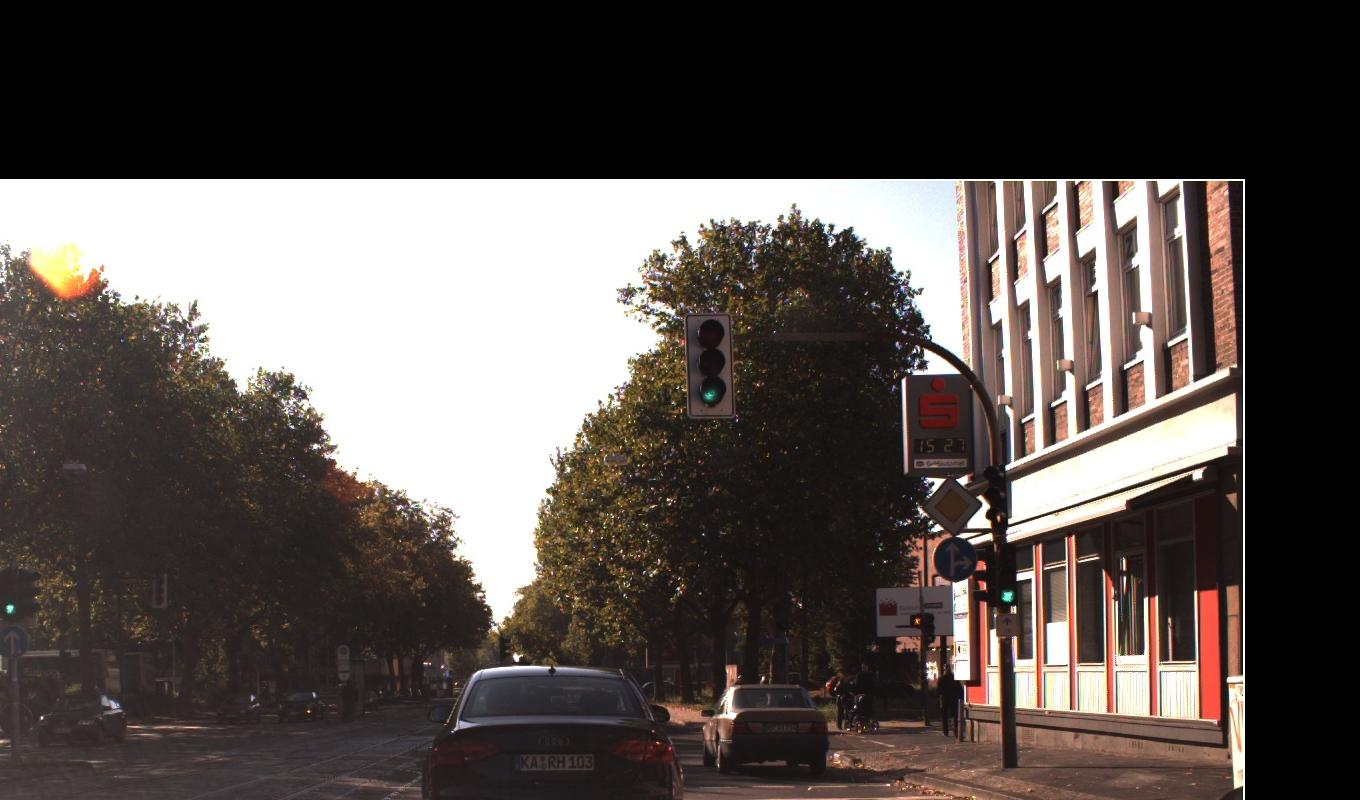priority road: (0, 475, 982, 659)
